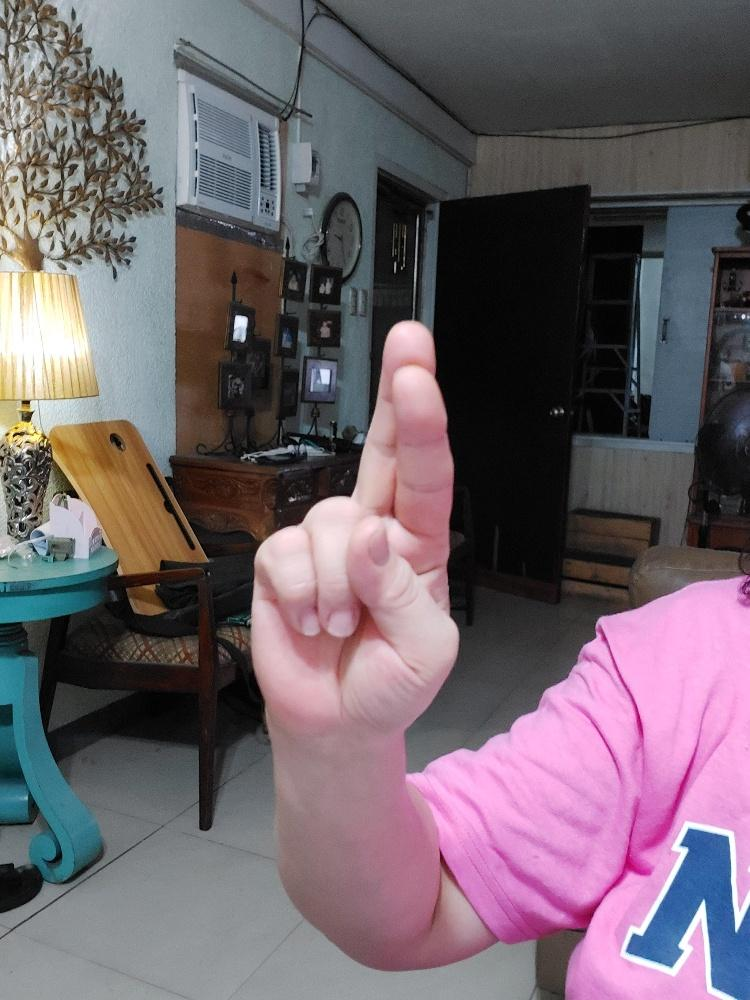r: (249, 319, 459, 742)
